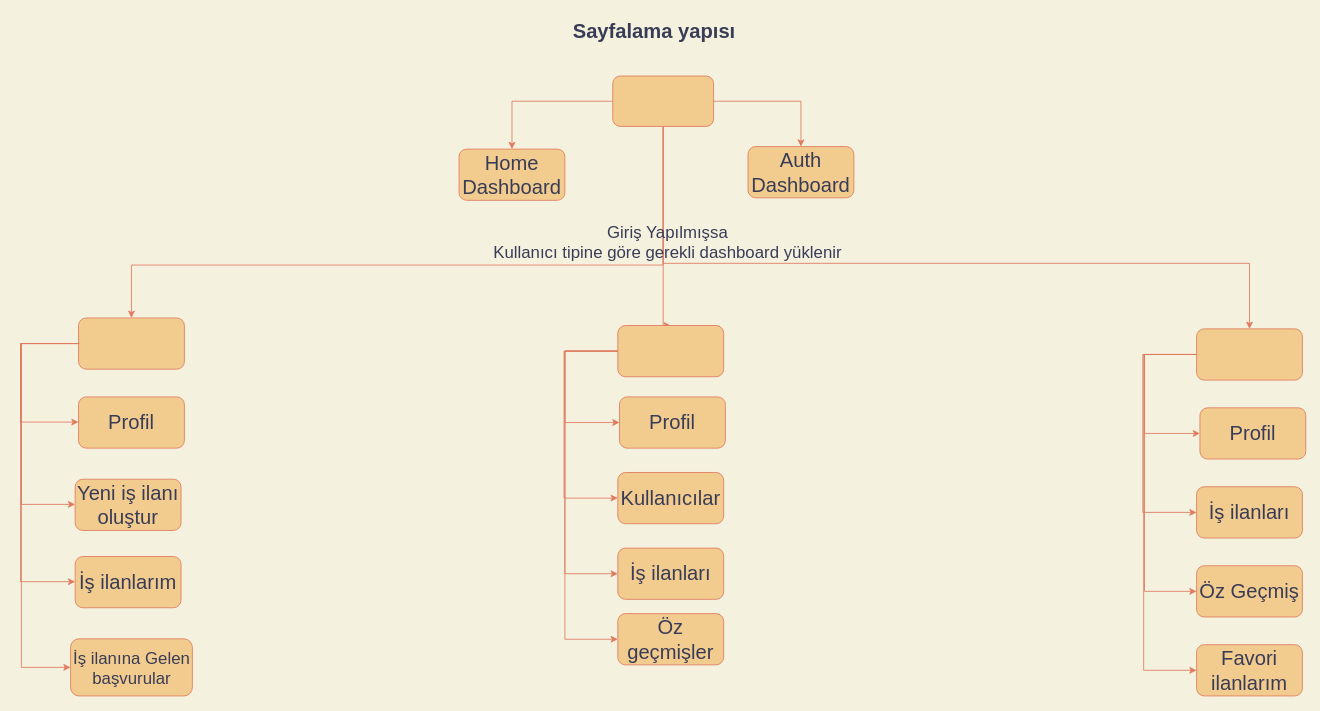
Image size: 1320x711. Some labels were removed from this diagram. The box of each missing label's shape, as (x1, y1, x2, y2) in pixels:
Admin Dashboard: (617, 325, 724, 377)
App: (612, 75, 714, 126)
Employer Dashboard: (78, 317, 184, 369)
Jobseeker Dashboard: (1196, 328, 1302, 380)
